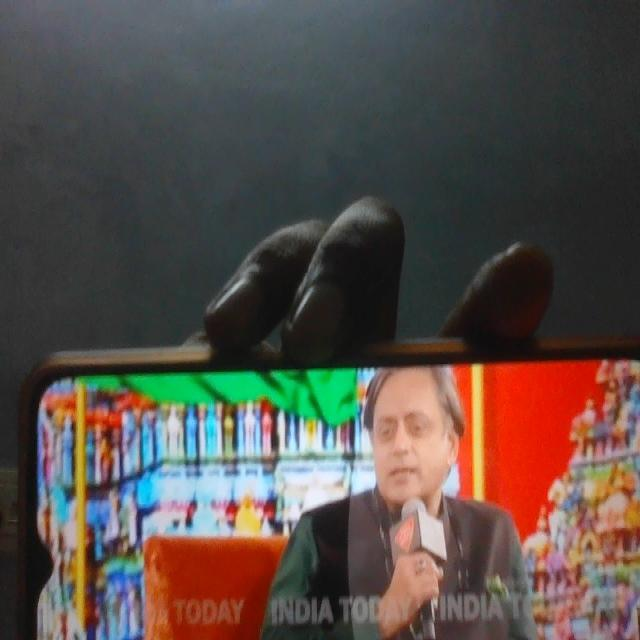fake: (351, 329, 457, 531)
